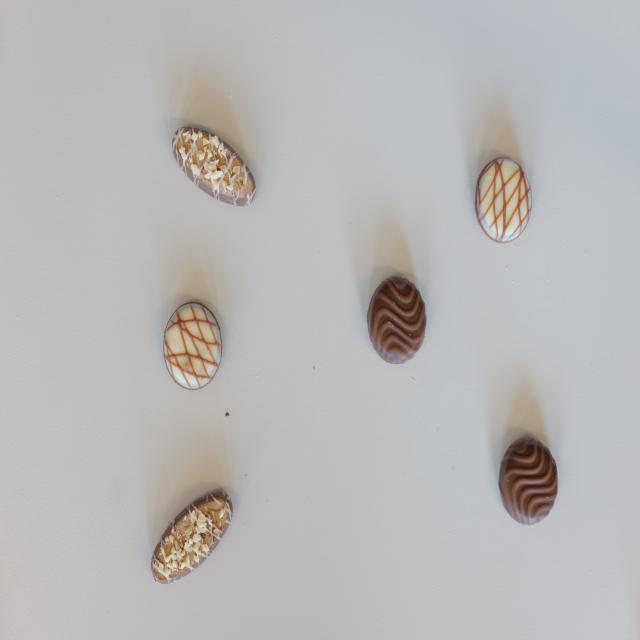Amandina: (152, 491, 234, 587), (172, 124, 257, 208)
Creme_brulee: (163, 302, 222, 391), (476, 158, 533, 242)
Noir_authentique: (367, 276, 428, 365), (498, 436, 559, 525)
